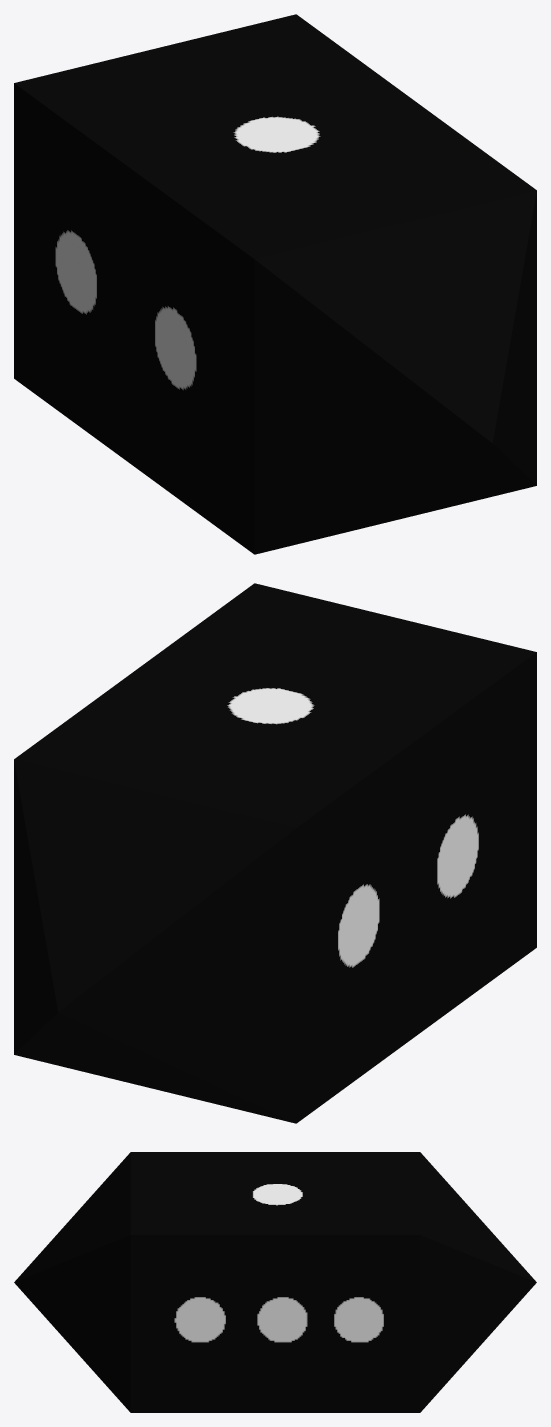
The picture shows the model from 3 angles, top to bottom: view 1: azimuth 30°, elevation 25°; view 2: azimuth 150°, elevation 25°; view 3: azimuth 270°, elevation 25°; orthographic projection. The views are drawn at different scales.
Visible parts, largest first — view 1: d4; view 2: d4; view 3: d4.
Part boxes in pixels (<box>): d4: <box>14,14,536,554</box>; d4: <box>14,583,536,1123</box>; d4: <box>14,1152,536,1412</box>.
Bounding box in the file's own units: 1.68 × 1.68 × 4.49.
1 material, 1 textured.
